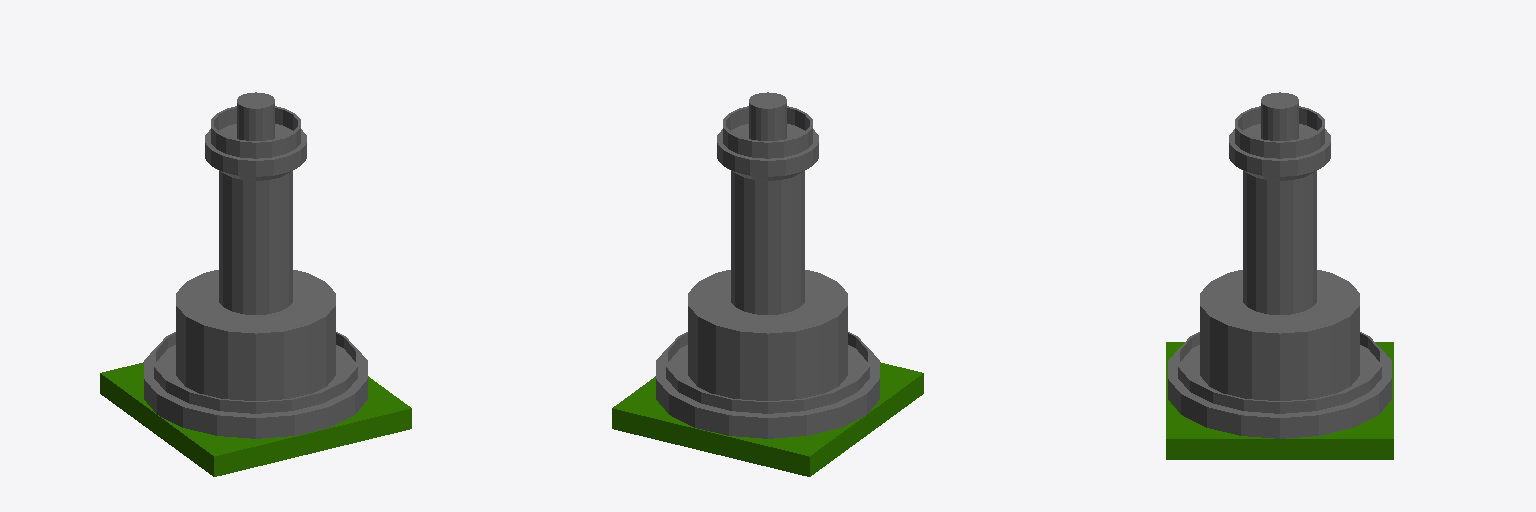
File: TownCenter.obj
The picture shows the model from 3 angles: view 1: azimuth 30°, elevation 25°; view 2: azimuth 150°, elevation 25°; view 3: azimuth 270°, elevation 25°; orthographic projection.
Visible parts, largest first — view 1: Cylinder003, Tilebase100; view 2: Cylinder003, Tilebase100; view 3: Cylinder003, Tilebase100.
Part boxes in pixels (x1,y1,x2,y2): Cylinder003: (144, 92, 367, 438); Tilebase100: (100, 362, 411, 476); Cylinder003: (656, 92, 879, 438); Tilebase100: (612, 362, 923, 476); Cylinder003: (1168, 92, 1391, 438); Tilebase100: (1166, 342, 1393, 459).
Bounding box in the file's own units: 10 × 15.01 × 10.